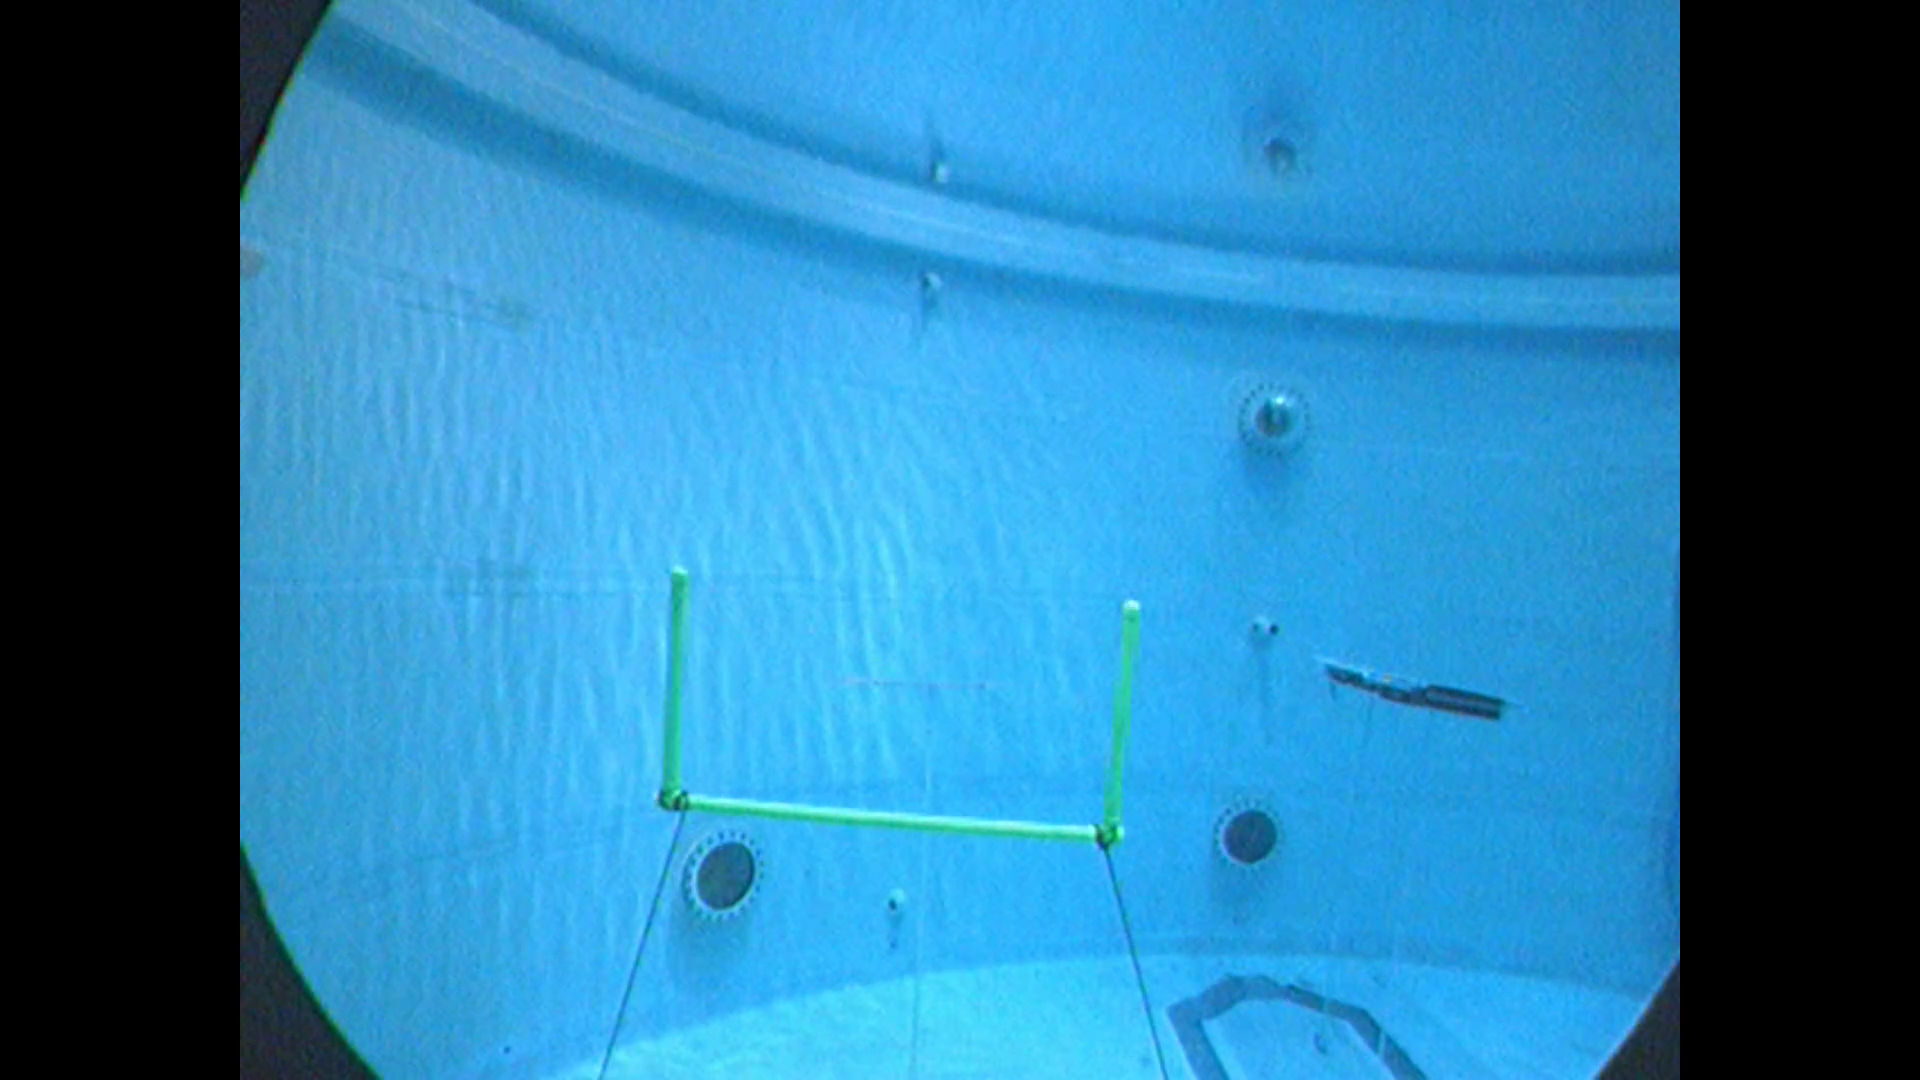gate: (653, 560, 1154, 866)
